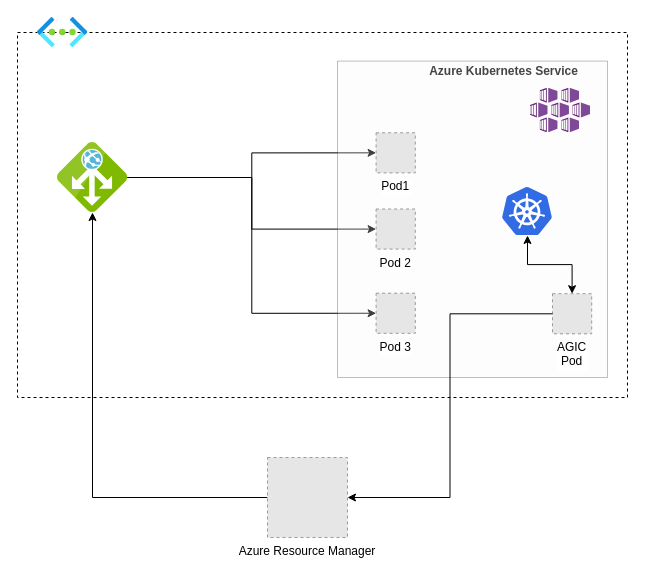
This 645x575 diagram has some shape labels left out. Grey dashed boxes stand in for pictures. The centre of each missing label's shape, as x and y in pixels:
Application Gateway: (92,177)
Kubernetes API: (527,211)
